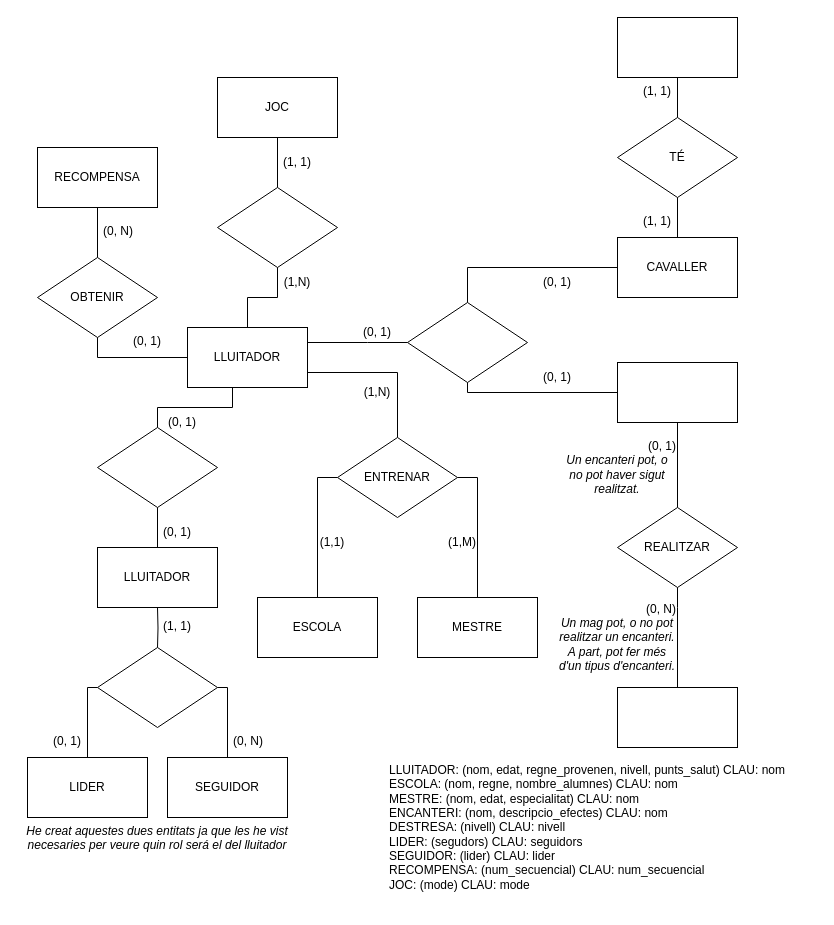
The diagram is 834 pixels wide and 925 high, and some of its shapes have lost their labels. The shapes that lost their labels are listed below. From the top down, each one's centre as x and y in pixels, then its label:
At [677,47]: "DESTRESA".
At [277,227]: "TRIAR".
At [467,342]: "FORMAR-SE".
At [677,392]: "MAG".
At [157,467]: "ALLIAR".
At [157,687]: "SERÁ".
At [677,717]: "ENCANTERI".
